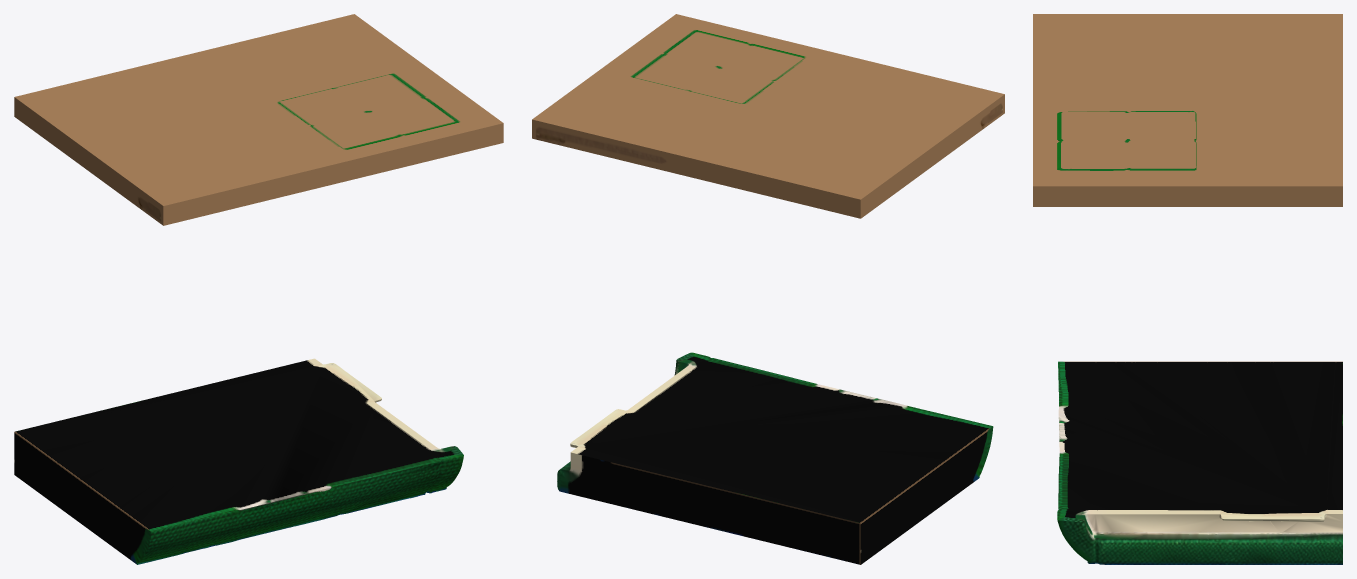
Rendered from 10-roof-front-right.fbx.
3 renders of one model, left to right at view 1: azimuth 30°, elevation 25°; view 2: azimuth 150°, elevation 25°; view 3: azimuth 270°, elevation 25°, orthographic. The views are drawn at different scales.
Visible parts, largest first — view 1: roof-front-right; view 2: roof-front-right; view 3: roof-front-right.
Boxes of the visible parts, x1=… form: roof-front-right: x1=14, y1=14, x2=503, y2=564; roof-front-right: x1=532, y1=14, x2=1004, y2=564; roof-front-right: x1=1033, y1=14, x2=1342, y2=564.
Size of the model in its own units: 5403 by 5736 by 4102.
1 material, 1 textured.
